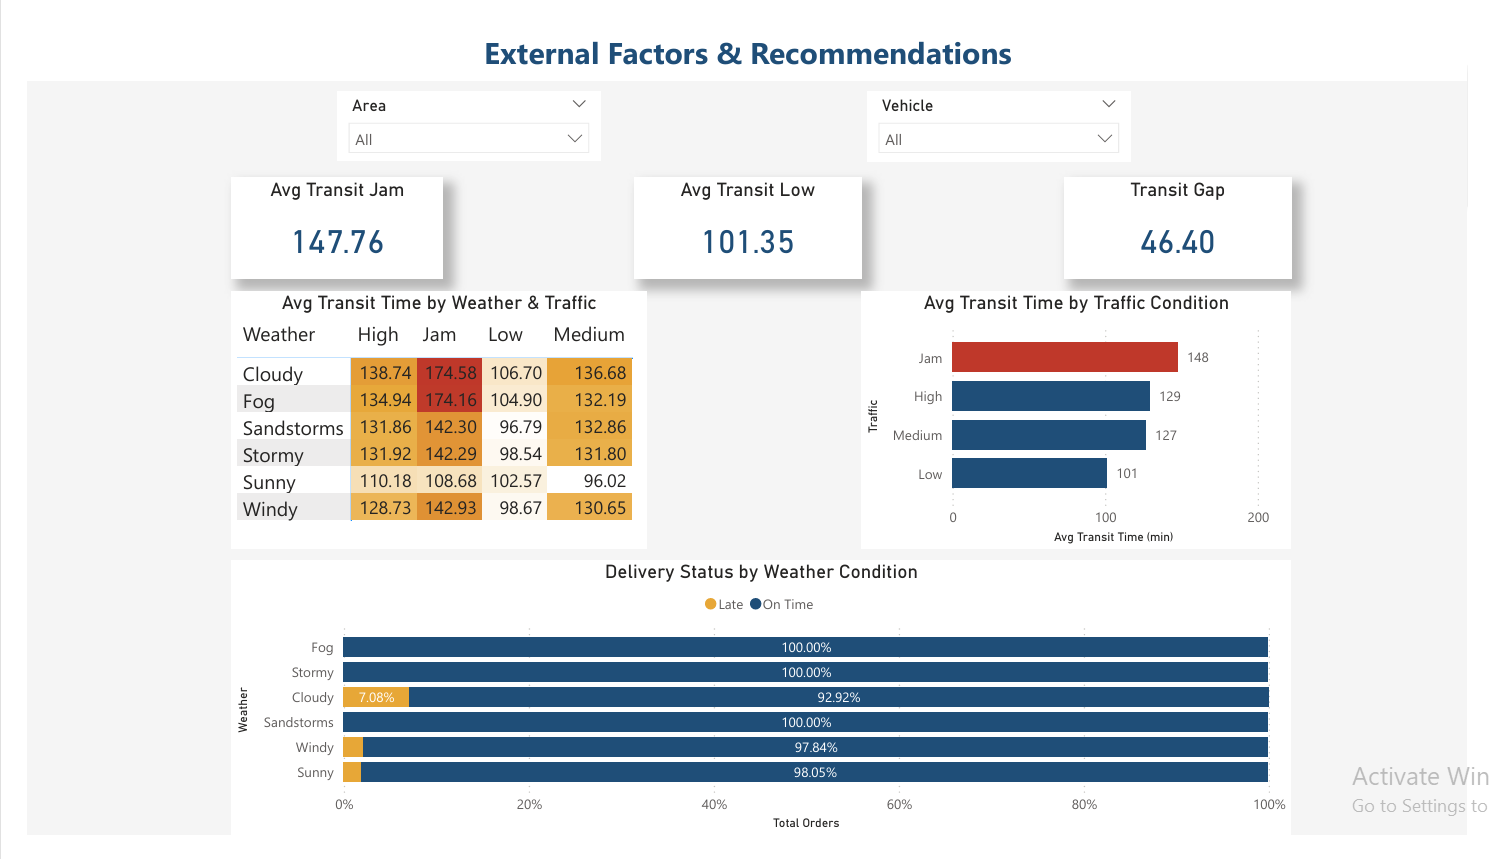

The page's visual inventory and layout, read from the dashboard file:
{"tool":"powerbi","page":{"name":"External Factors","canvas":[1280,720],"ordinal":2},"visuals":[{"type":"card","title":"Avg Transit Jam","fields":{"Values":["deliveries.Avg Transit Jam"]},"box":[181.2,135,187.5,90],"z":0},{"type":"card","title":"Avg Transit Low","fields":{"Values":["deliveries.Avg Transit Low"]},"box":[538.8,135,202.5,90],"z":1},{"type":"card","title":"Transit Gap","fields":{"Values":["deliveries.Transit Gap"]},"box":[921.2,135,201.2,90],"z":2},{"type":"slicer","fields":{"Values":["deliveries.Area"]},"box":[275,57.5,233.8,62.5],"z":3},{"type":"slicer","fields":{"Values":["deliveries.Vehicle"]},"box":[746.2,57.5,233.8,63.8],"z":4},{"type":"textbox","box":[0,0,1280,48.8],"z":5},{"type":"pivotTable","title":"Avg Transit Time by Weather & Traffic","fields":{"Rows":["deliveries.Weather"],"Columns":["deliveries.Traffic"],"Values":["deliveries.Avg Transit Time"]},"box":[181.2,236.2,368.8,228.8],"z":6},{"type":"clusteredBarChart","title":"Avg Transit Time by Traffic Condition","fields":{"Category":["deliveries.Traffic"],"Y":["deliveries.Avg Transit Time"]},"box":[741.2,236.2,381.2,228.8],"z":7},{"type":"hundredPercentStackedBarChart","title":"Delivery Status by Weather Condition","fields":{"Category":["deliveries.Weather"],"Y":["deliveries.Total Orders"],"Series":["deliveries.Late_Delivery_Flag"]},"box":[181.2,475,941.2,245],"z":8}]}

Visuals, with their boxes in screenshot pixels (x1, y1, x2, y2), scaled from the page's 1280x720 canvas onto the 1490x859 screenshot:
"Avg Transit Jam" card: (x1=211, y1=161, x2=429, y2=268)
"Avg Transit Low" card: (x1=627, y1=161, x2=863, y2=268)
"Transit Gap" card: (x1=1072, y1=161, x2=1307, y2=268)
slicer - deliveries.Area: (x1=320, y1=69, x2=592, y2=143)
slicer - deliveries.Vehicle: (x1=869, y1=69, x2=1141, y2=145)
textbox: (x1=0, y1=0, x2=1489, y2=58)
"Avg Transit Time by Weather & Traffic" pivotTable: (x1=211, y1=282, x2=640, y2=555)
"Avg Transit Time by Traffic Condition" clusteredBarChart: (x1=863, y1=282, x2=1307, y2=555)
"Delivery Status by Weather Condition" hundredPercentStackedBarChart: (x1=211, y1=567, x2=1307, y2=858)
